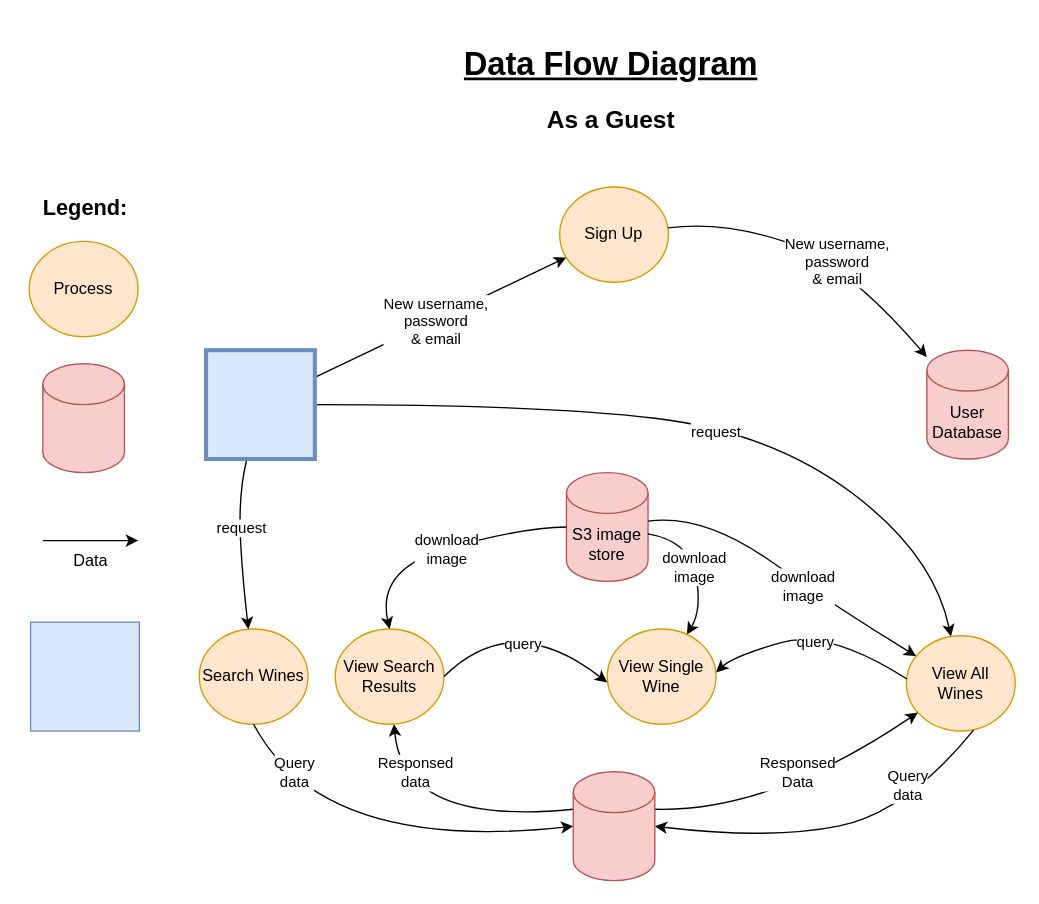
The diagram is 1039 pixels wide and 904 high, and some of its shapes have lost their labels. The shapes that lost their labels are listed below. From the top down, each one's centre as x and y in pixels, then its label:
At [82,417]: "Database".
At [259,403]: "Guest".
At [84,676]: "External Entity".
At [613,825]: "Wine Database".
